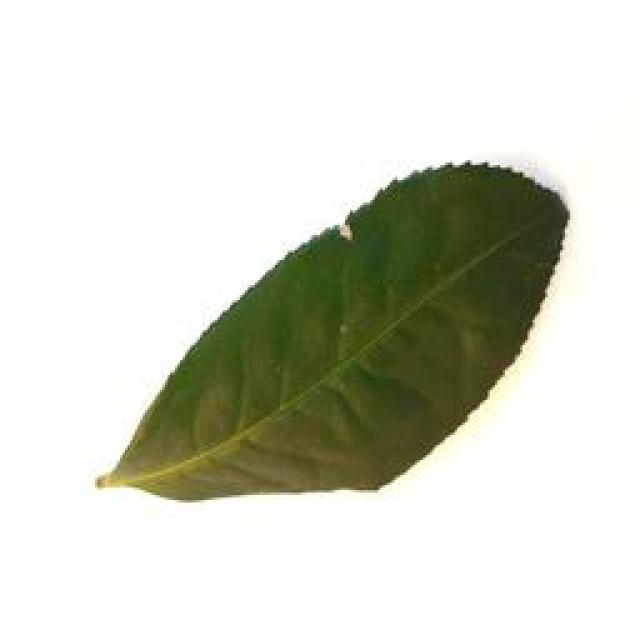Healthy: (82, 157, 568, 520)
